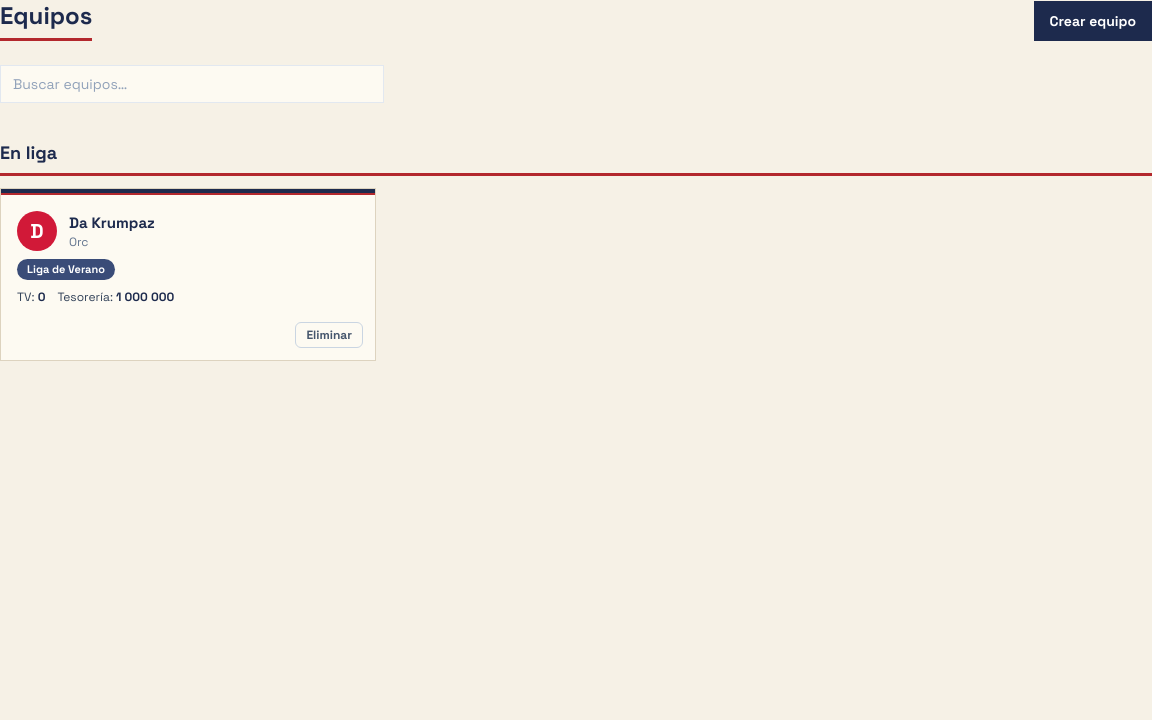
Test: TeamsListViewV2 — delete parity (task 2.5) › surfaces the Spanish 409 archive-guard copy with the league name from the map
expect the heading "Da Krumpaz" is shown: met, box [69,213,155,232]
Click the button with aria-label "Eliminar Da Krumpaz".
click(329, 334)  # box [295,322,363,348]
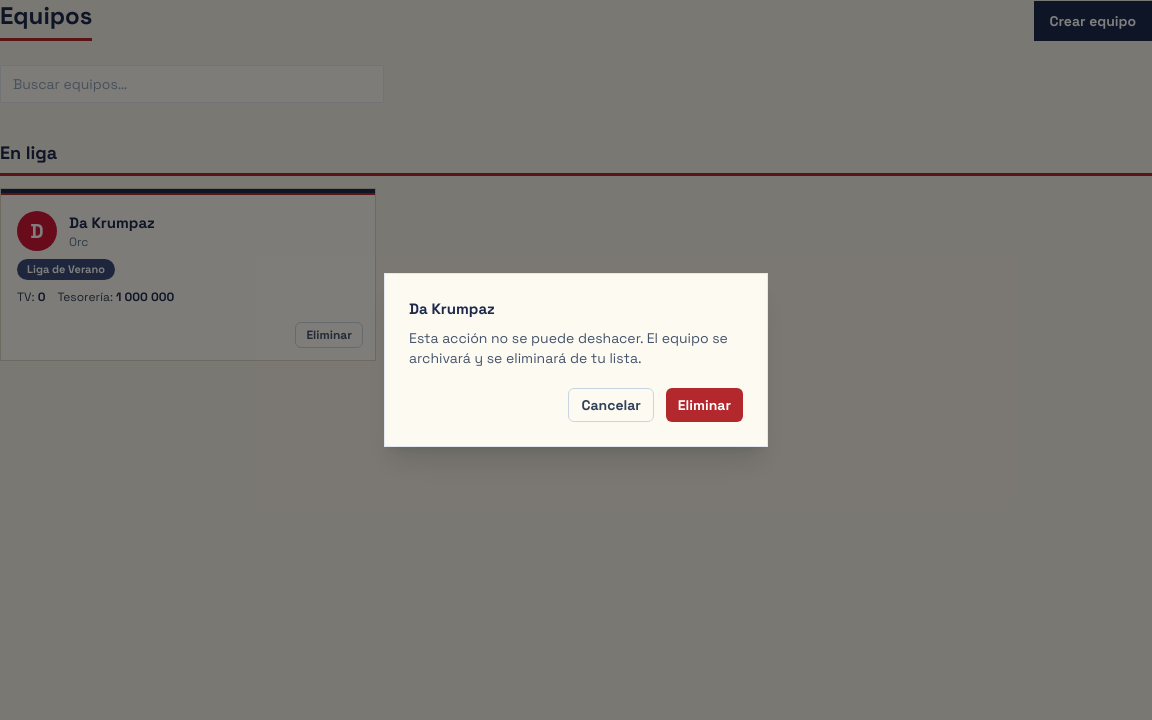
Click the button "Eliminar".
click(704, 405)  # box [666,388,743,422]
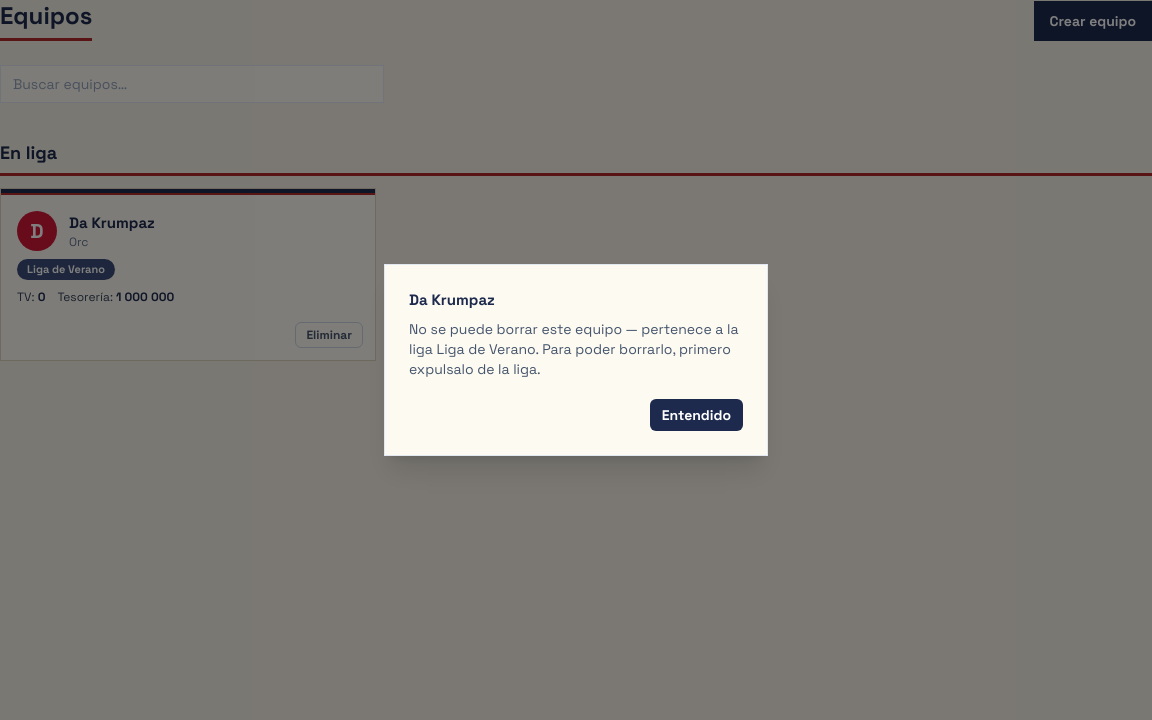
expect the text "No se puede borrar este equipo — pertenece a la liga Liga de Verano. Para poder borrarlo, primero expulsalo de la liga." is shown: met, box [409,320,738,378]
expect the button "Entendido" is shown: met, box [650,399,743,431]
